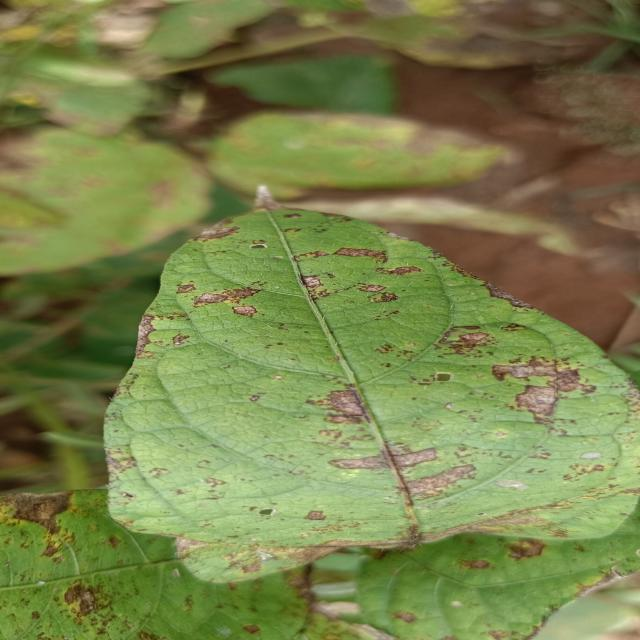Black gram_leaf spot: (97, 193, 640, 561)
